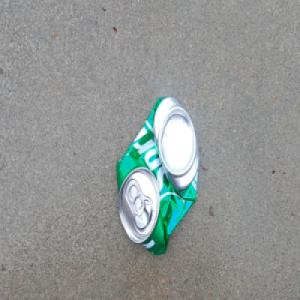SodaCan: (114, 93, 201, 258)
